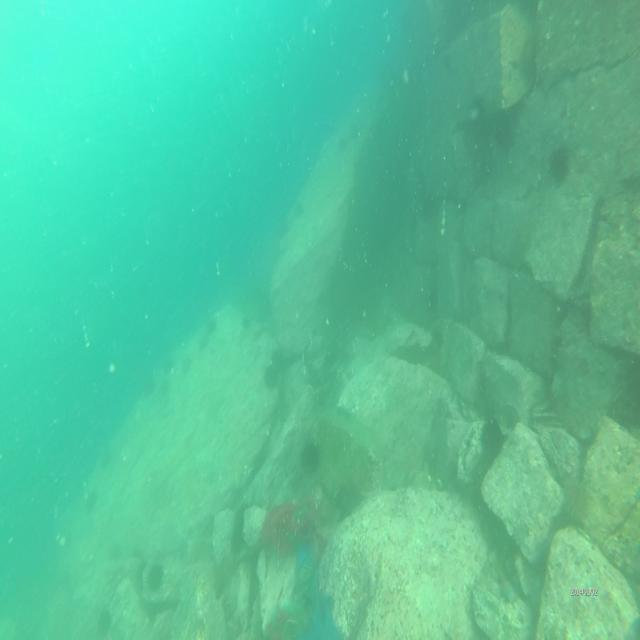echinus: (494, 108, 520, 156), (546, 141, 572, 186), (298, 439, 322, 478), (482, 422, 503, 462), (94, 608, 115, 640), (263, 360, 283, 390), (82, 484, 101, 512), (145, 563, 162, 594), (179, 351, 194, 379), (332, 134, 348, 154), (140, 378, 156, 397), (294, 199, 304, 223), (206, 316, 219, 334)
